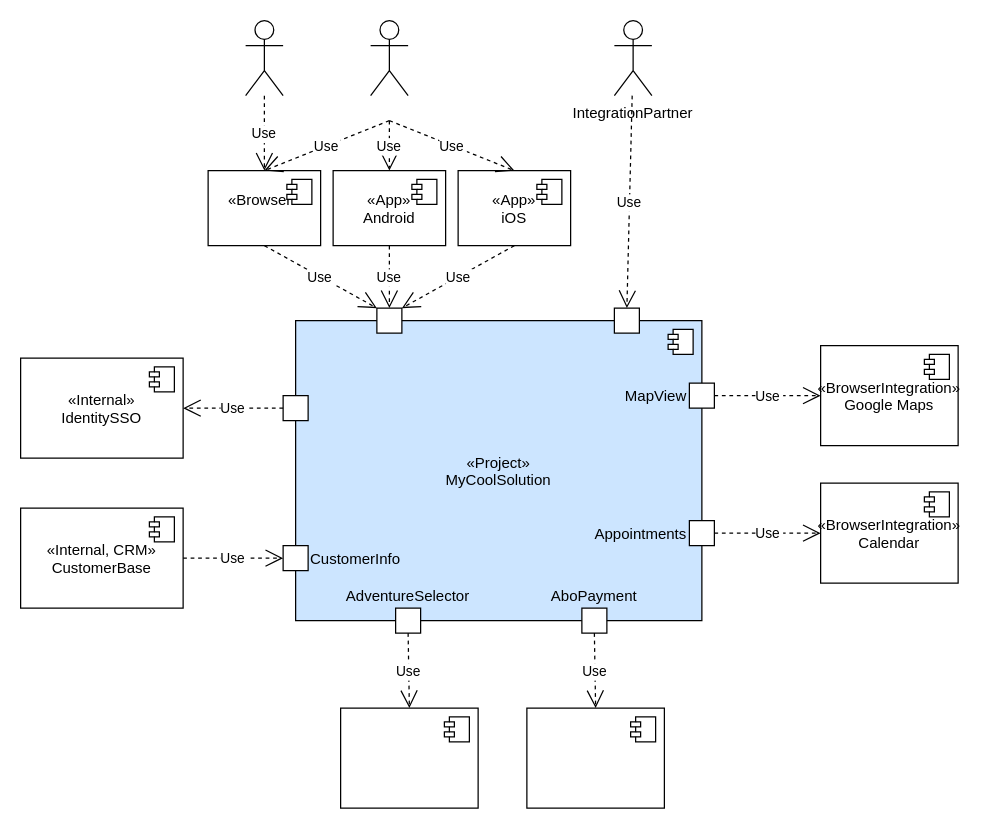
This 981x829 diagram has some shape labels left out. The centre of each missing label's shape, as x and y in pixels:
"BusinessAdmin" belongs at [263,57].
"ExploringUser" belongs at [388,57].
"PartnerAPI" belongs at [626,320].
"PresentationAPI" belongs at [389,320].
"UserData" belongs at [295,407].
"«External» AdventureCatalog" belongs at [408,757].
"«External» Payment" belongs at [595,757].
